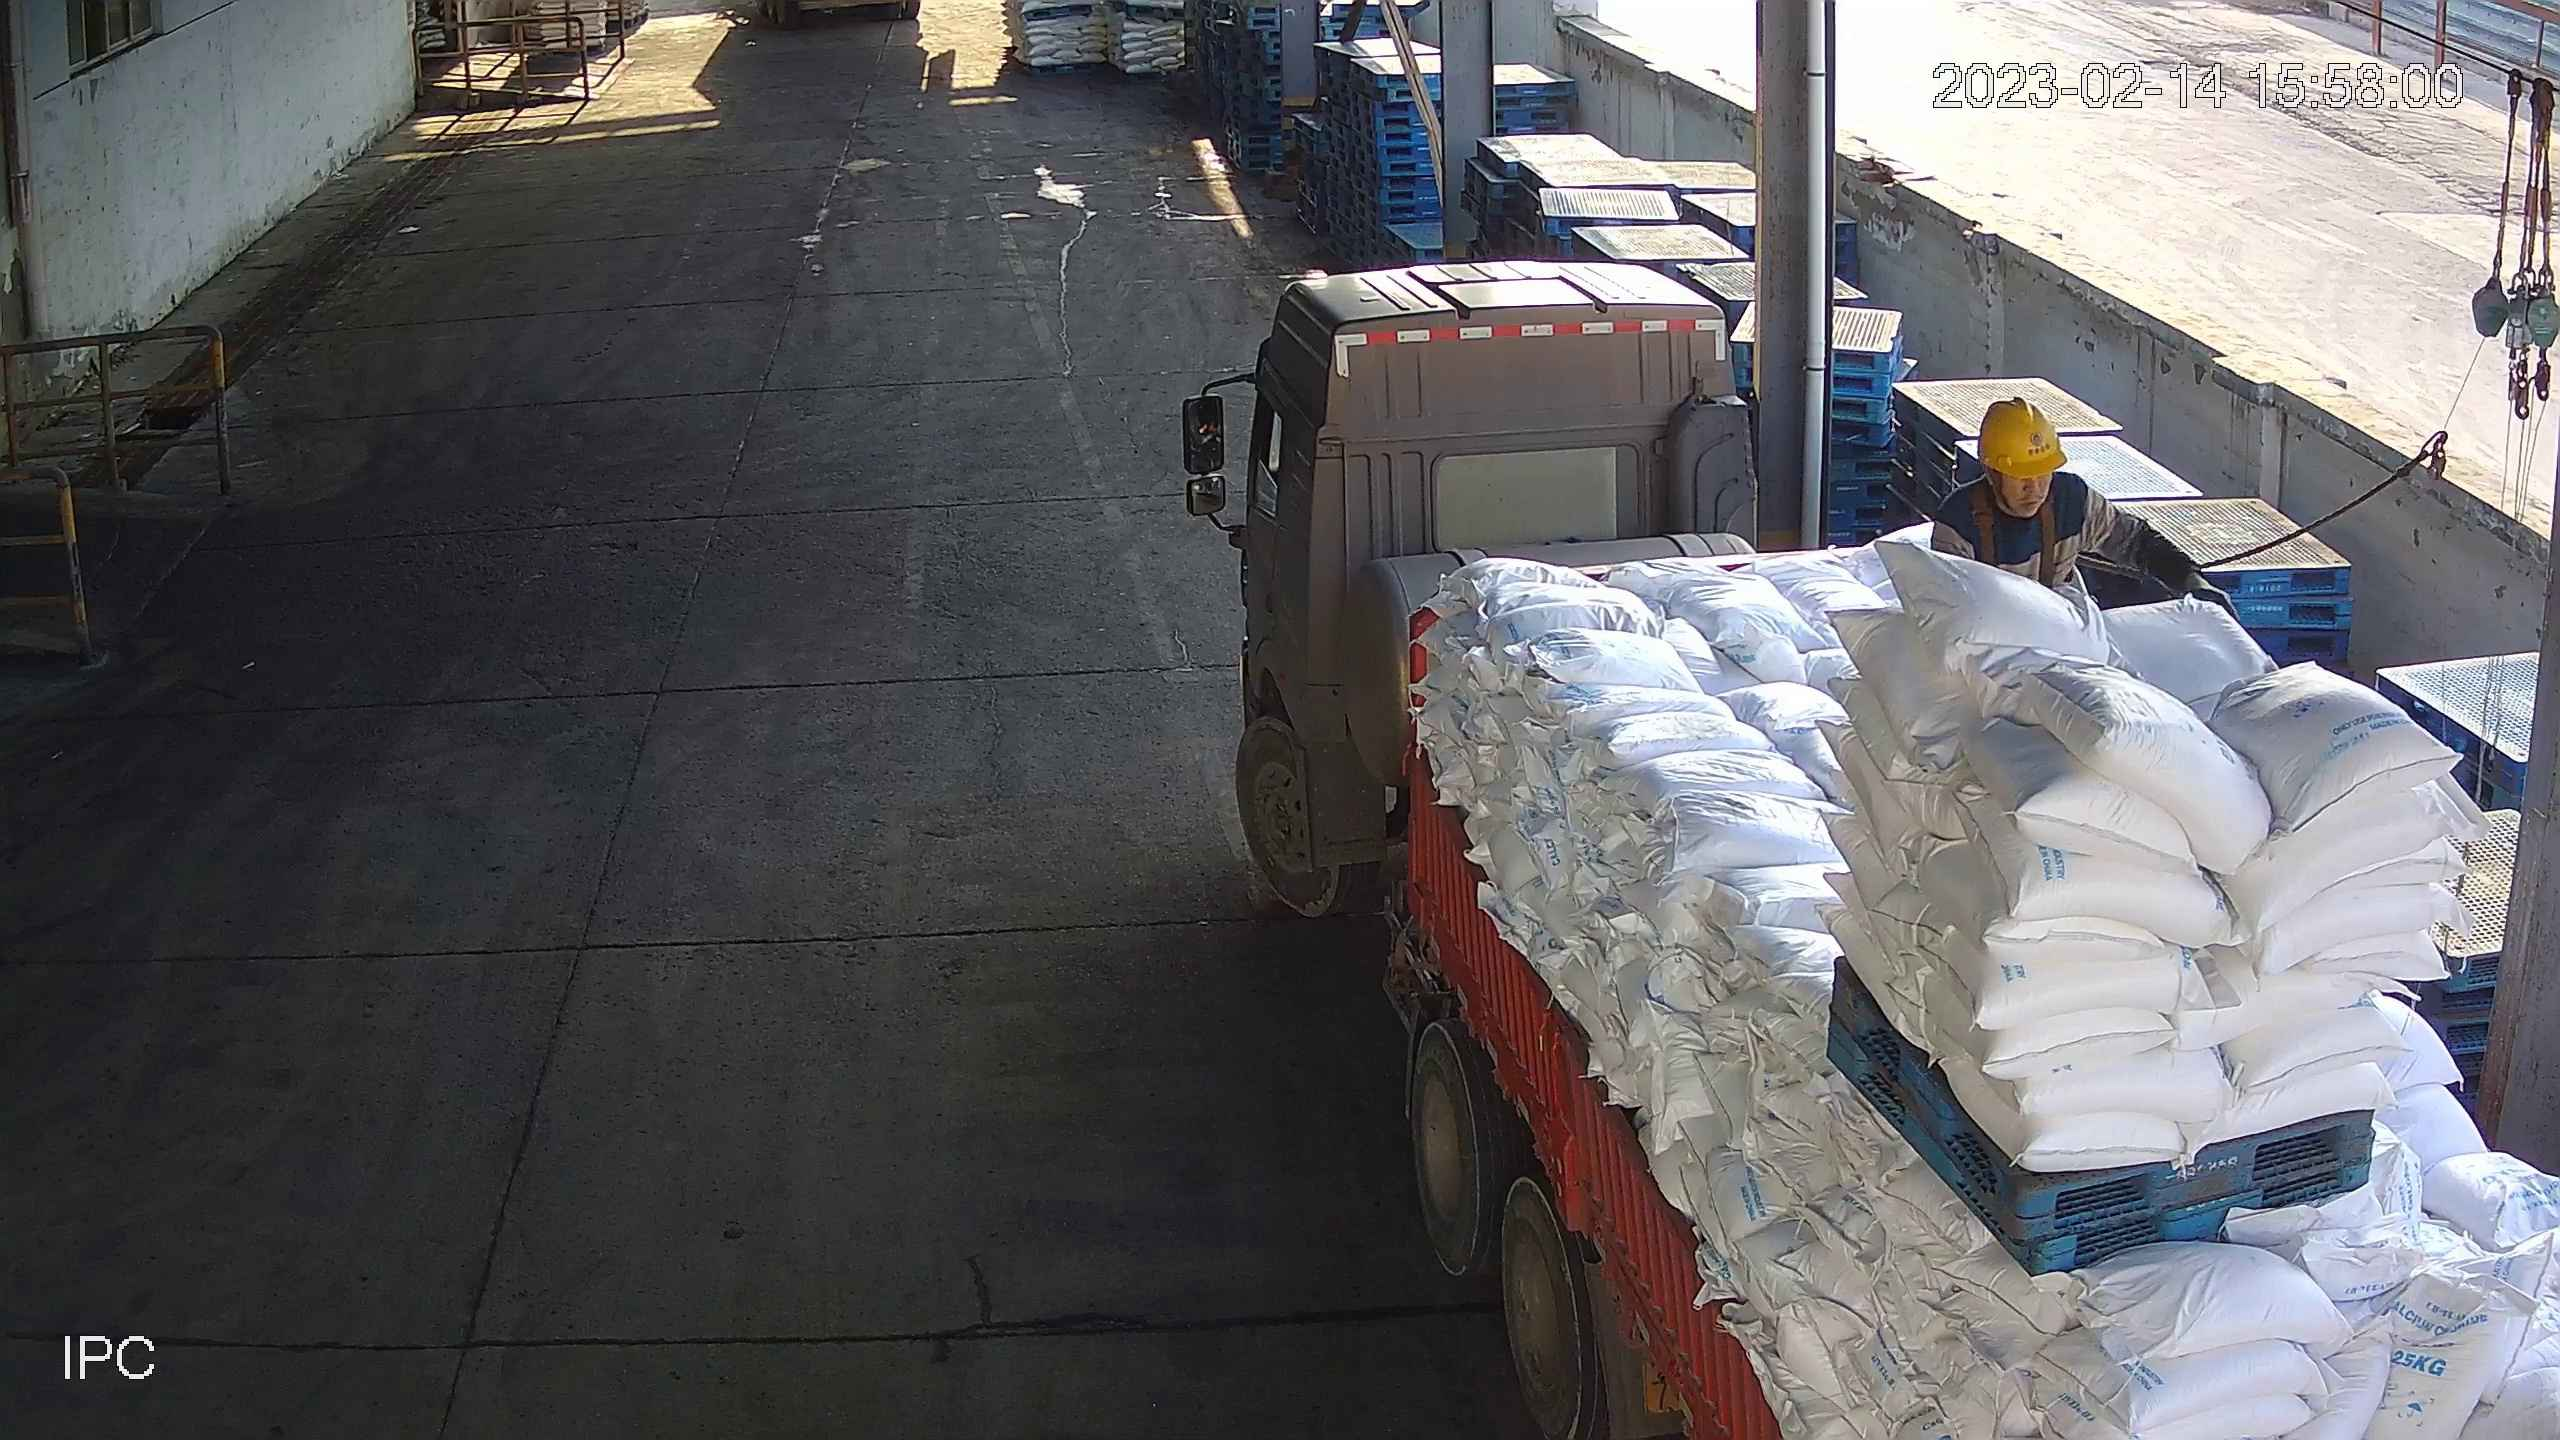belt: (1968, 480, 2073, 588)
head: (1932, 398, 2098, 532)
helmet: (1976, 397, 2068, 479)
truck: (1233, 255, 2560, 1440)
